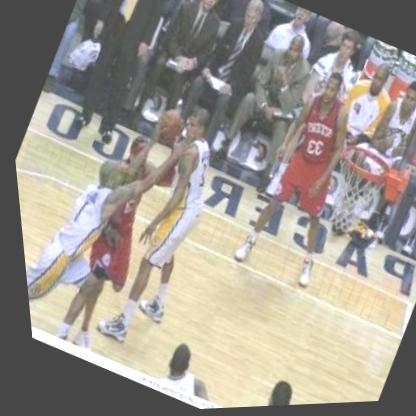basketball: (147, 102, 194, 151)
